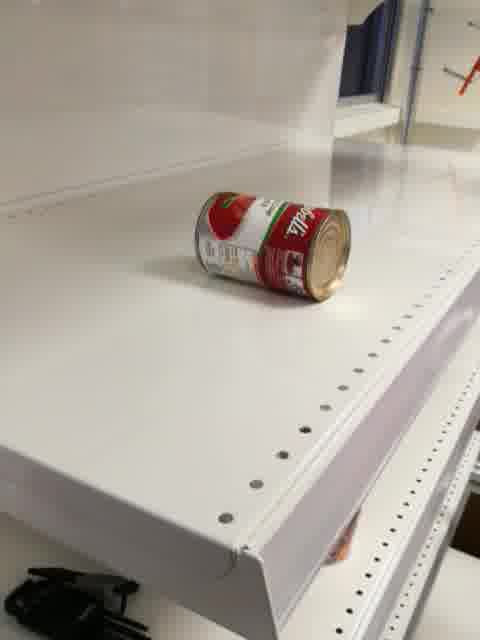tomatosoup: (191, 190, 356, 305)
